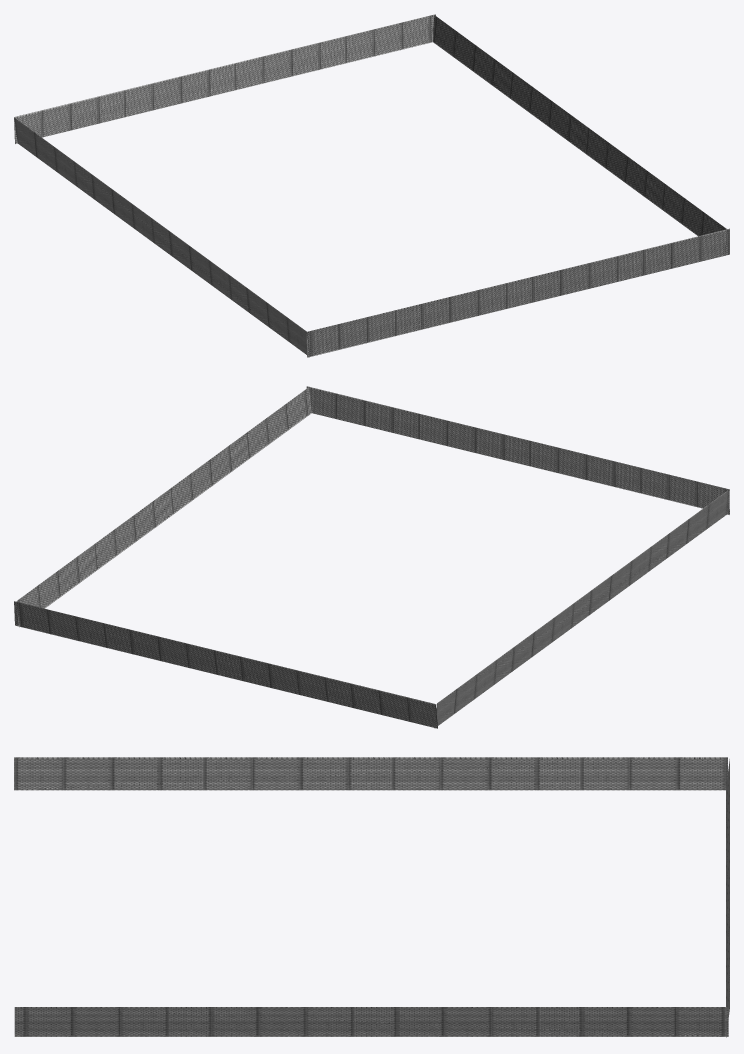
The model's file is Fence.fbx.
The picture shows the model from 3 angles, top to bottom: view 1: azimuth 30°, elevation 25°; view 2: azimuth 150°, elevation 25°; view 3: azimuth 270°, elevation 25°; orthographic projection. The views are drawn at different scales.
Visible parts, largest first — view 1: fence_02, fence_04, fence_01, fence_03; view 2: fence_04, fence_02, fence_01, fence_03; view 3: fence_03, fence_01, fence_02.
Boxes of the visible parts, bbox=[...] form: fence_02: bbox=[14, 14, 435, 143]; fence_04: bbox=[306, 228, 729, 357]; fence_01: bbox=[433, 15, 727, 255]; fence_03: bbox=[14, 118, 309, 356]; fence_04: bbox=[306, 386, 729, 514]; fence_02: bbox=[14, 601, 437, 728]; fence_01: bbox=[16, 387, 311, 627]; fence_03: bbox=[434, 489, 729, 728]; fence_03: bbox=[14, 757, 727, 790]; fence_01: bbox=[14, 1007, 728, 1036]; fence_02: bbox=[726, 759, 729, 1037].
Size of the model in its own units: 2486 by 145 by 2991.
Materials: 1 (1 with a texture image).
